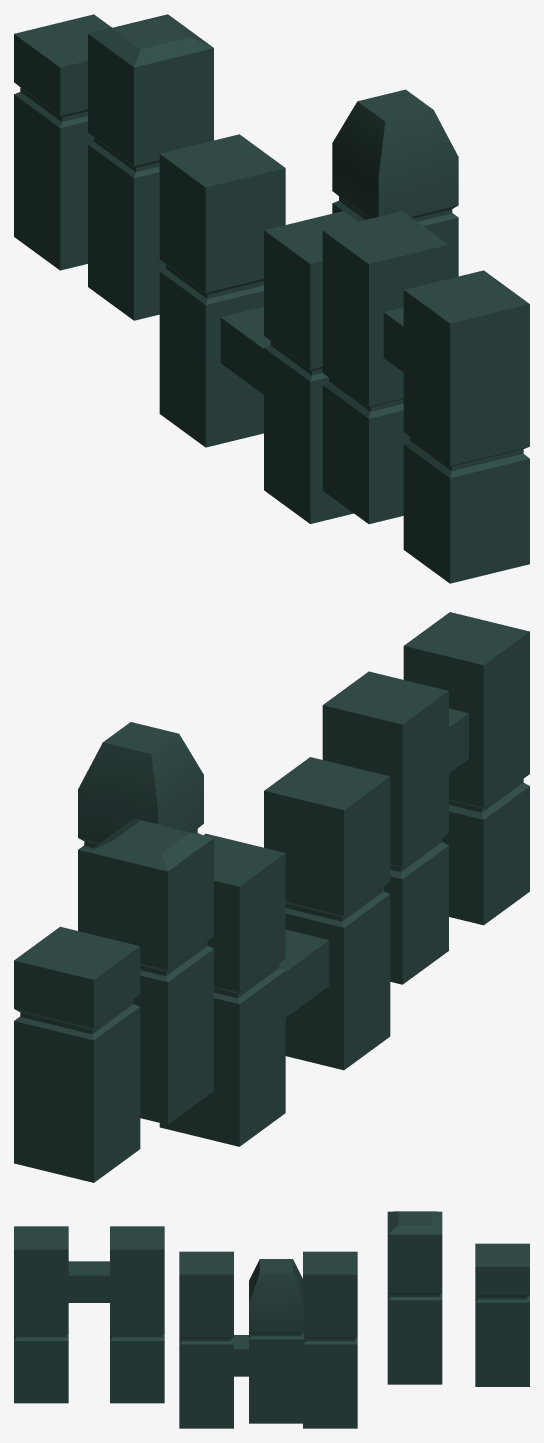
File: gebouwen.fbx
3 renders of one model, top to bottom at view 1: azimuth 30°, elevation 25°; view 2: azimuth 150°, elevation 25°; view 3: azimuth 270°, elevation 25°, orthographic. The views are drawn at different scales.
Visible parts, largest first — view 1: pCube27; view 2: pCube27; view 3: pCube27.
Part boxes in pixels (x1,y1,x2,y2): pCube27: [14, 14, 529, 583]; pCube27: [14, 612, 529, 1182]; pCube27: [14, 1211, 529, 1428].
Bounding box in the file's own units: 12.32 × 19.06 × 44.88.
